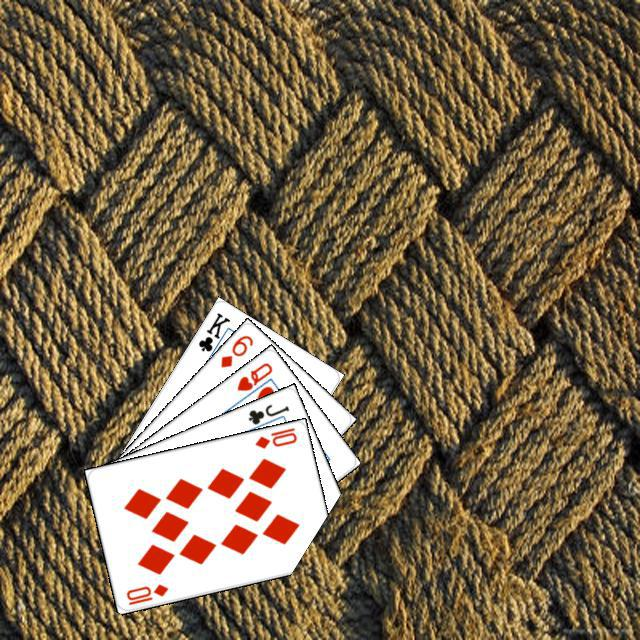10d: (121, 579, 170, 607), (250, 423, 299, 450)
6d: (216, 330, 255, 369)
Jc: (243, 399, 291, 427)
Kc: (193, 308, 232, 362)
Qh: (232, 357, 274, 393)
